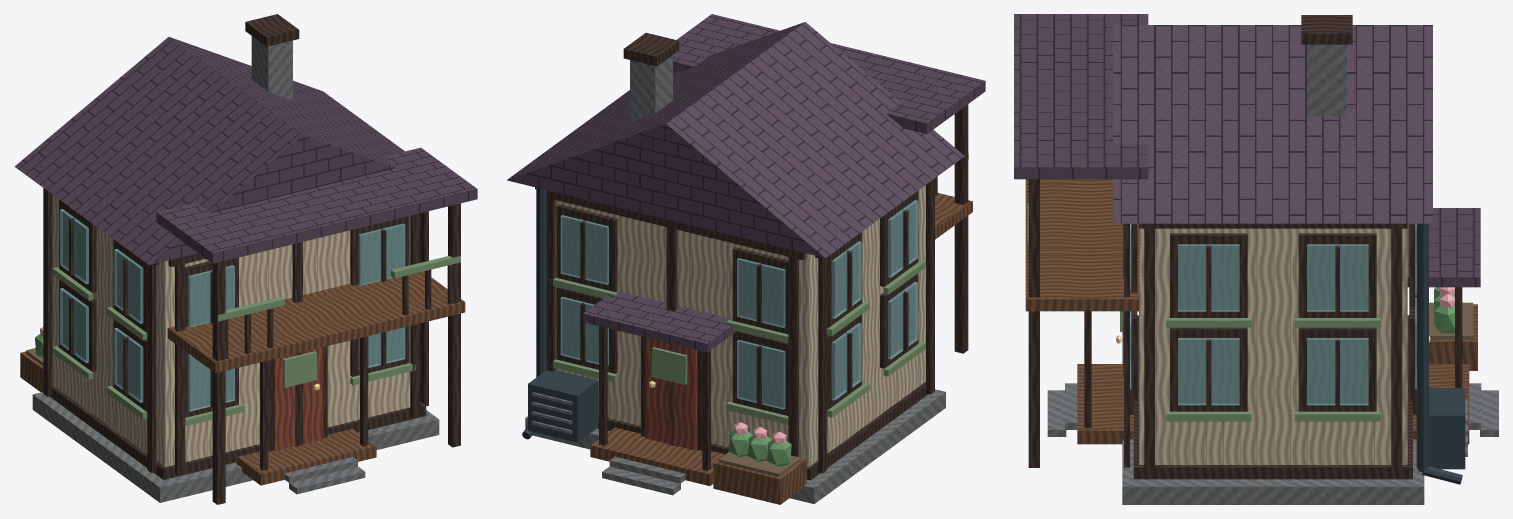
The model's file is house_tudor_lv2_balcony.glb.
3 views of the same model, side by side, from view 1: azimuth 30°, elevation 25°; view 2: azimuth 150°, elevation 25°; view 3: azimuth 270°, elevation 25° (orthographic). The views are drawn at different scales.
Parts seen in each view (by area): view 1: gable_roof, walls, balcony_roof, balcony_floor, foundation, front_deck, floor_trim, balcony_pillar, front_door, front_window_frame.003, balcony_pillar.001, front_timber (+32 smaller); view 2: gable_roof, walls, balcony_roof, back_porch_canopy, foundation, back_door, back_window_frame.003, back_ac_unit, back_window_frame.002, back_window_frame, back_deck, balcony_pillar (+37 smaller); view 3: gable_roof, walls, balcony_roof, balcony_floor, foundation, right_window_frame.003, right_window_frame.001, right_window_frame, right_window_frame.002, floor_trim, back_porch_canopy, right_window_glass.002 (+31 smaller).
Boxes of the visible parts, x1,y1,x2,y2 form: gable_roof: (14,37,404,264); walls: (52,194,410,466); balcony_roof: (156,147,477,263); balcony_floor: (167,271,465,373); foundation: (32,392,439,502); front_deck: (236,428,376,485); floor_trim: (50,385,426,479); balcony_pillar: (212,261,225,504); front_door: (273,347,322,450); front_window_frame.003: (350,216,409,285); balcony_pillar.001: (448,203,460,447); front_timber: (175,256,185,475); gable_roof: (507,22,964,257); walls: (555,185,925,466); balcony_roof: (673,14,985,133); back_porch_canopy: (583,291,736,352); foundation: (525,389,945,503); back_door: (645,337,697,450); back_window_frame.003: (556,204,617,291); back_ac_unit: (528,370,598,442); back_window_frame.002: (732,247,788,334); back_window_frame: (732,331,788,415); back_deck: (590,427,724,485); balcony_pillar: (954,104,968,353); gable_roof: (1113,25,1432,223); walls: (1139,228,1407,464); balcony_roof: (1014,14,1148,179); balcony_floor: (1025,179,1138,311); foundation: (1122,332,1424,504); right_window_frame.003: (1298,233,1376,317); right_window_frame.001: (1298,327,1376,411); right_window_frame: (1170,327,1247,411); right_window_frame.002: (1170,233,1247,317); floor_trim: (1133,315,1412,479); back_porch_canopy: (1407,208,1480,287); right_window_glass.002: (1178,244,1239,311).
Size of the model in its own units: 3.15 by 3.56 by 3.61.
13 materials, 7 textured.
